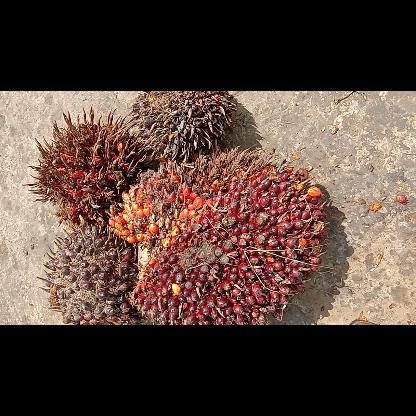Kurang masak: (40, 222, 142, 324)
TBS abnormal: (127, 90, 236, 158)
TBS masak: (108, 144, 328, 324)
Terlalu masak: (24, 107, 154, 225)
